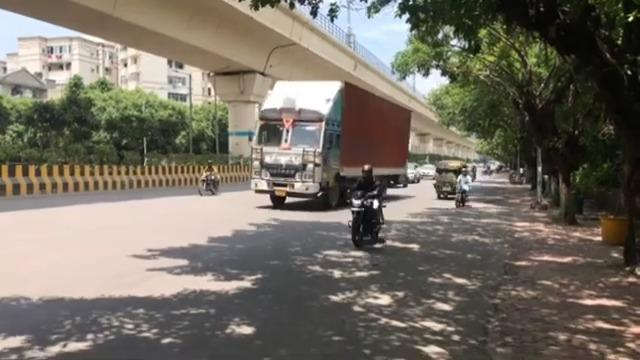Auto: (432, 159, 467, 199)
Bike: (346, 164, 386, 247), (198, 159, 222, 195), (454, 164, 473, 207)
Bus: (249, 106, 326, 207)
Truck: (248, 80, 412, 208)
